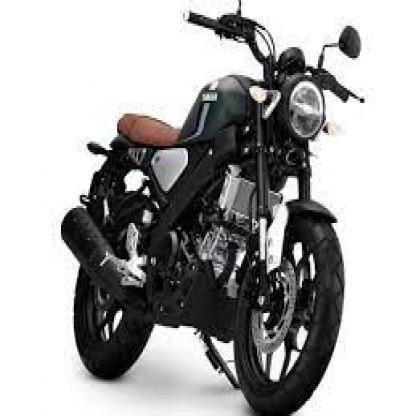Motorcycle: (55, 2, 378, 414)
